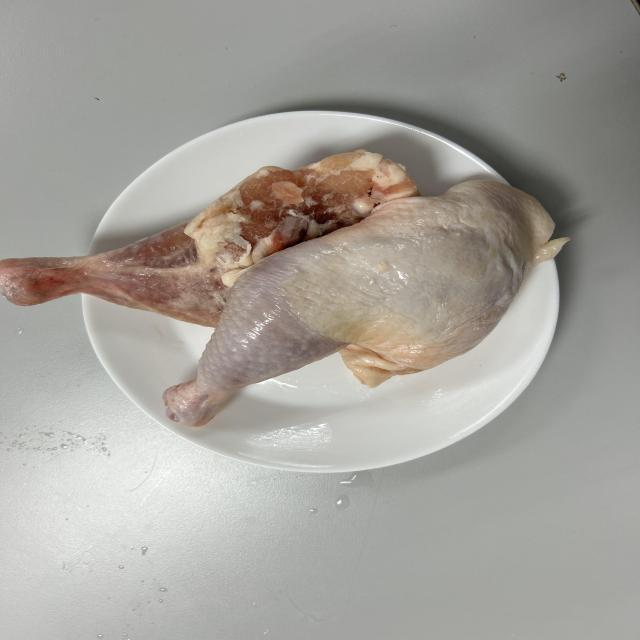quater: (166, 194, 545, 448), (0, 144, 406, 328)
